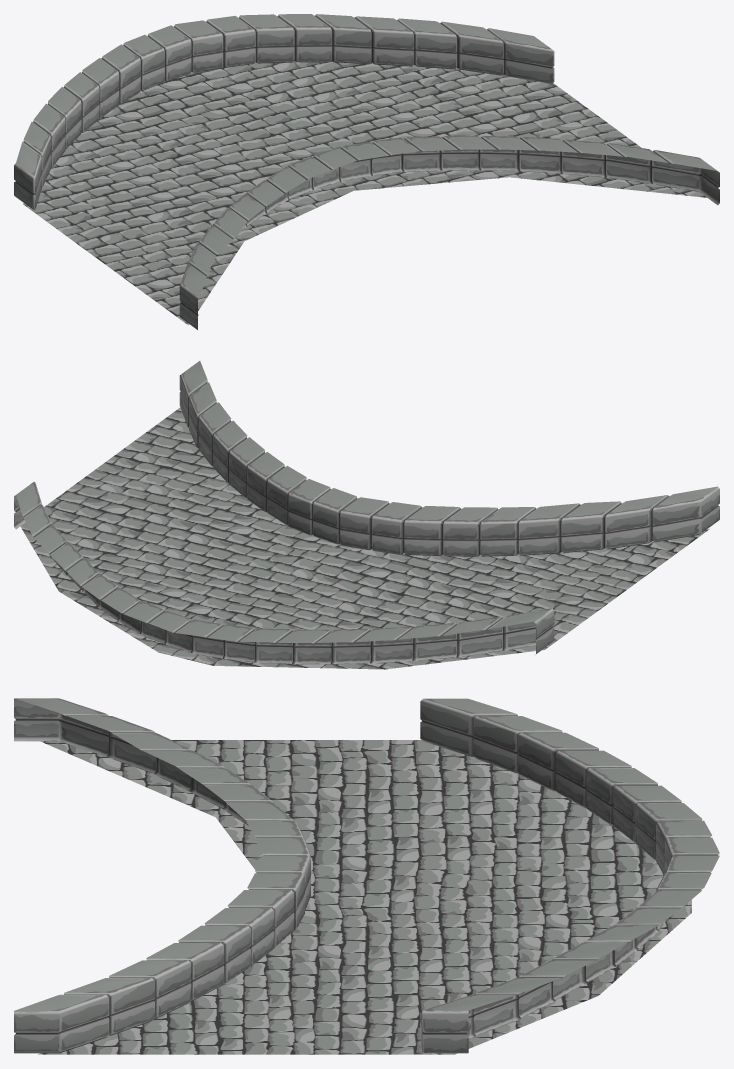
The model's file is mod_med_her_part_a_09.fbx.
The picture shows the model from 3 angles, top to bottom: view 1: azimuth 30°, elevation 25°; view 2: azimuth 150°, elevation 25°; view 3: azimuth 270°, elevation 25°; orthographic projection. The views are drawn at different scales.
Parts seen in each view (by area): view 1: mod_med_her_part_a_09; view 2: mod_med_her_part_a_09; view 3: mod_med_her_part_a_09.
Boxes of the visible parts, x1=… form: mod_med_her_part_a_09: x1=14, y1=14, x2=719, y2=329; mod_med_her_part_a_09: x1=14, y1=361, x2=719, y2=669; mod_med_her_part_a_09: x1=14, y1=698, x2=719, y2=1054.
Bounding box in the file's own units: 180 × 11.47 × 171.
